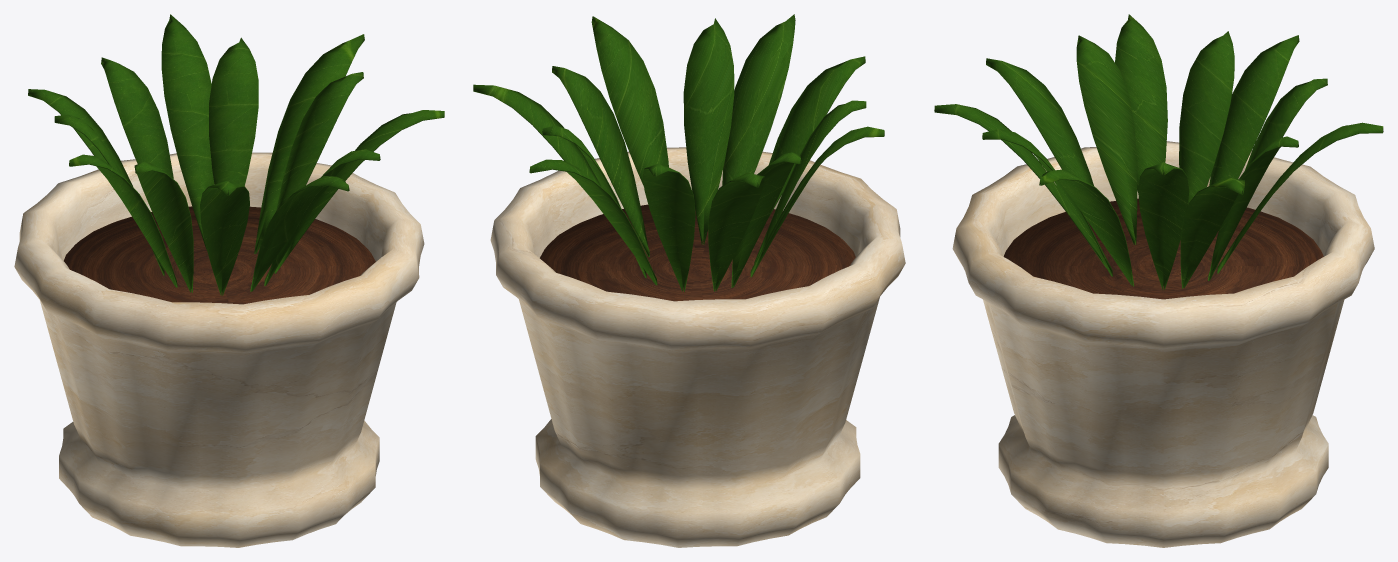
File: explore3d__reaction_hotel_lobby_0.glb
The picture shows the model from 3 angles, left to right: view 1: azimuth 30°, elevation 25°; view 2: azimuth 150°, elevation 25°; view 3: azimuth 270°, elevation 25°; orthographic projection. The views are drawn at different scales.
Visible parts, largest first — view 1: moulded_planter_vessel, inset_soil, folded_leaf.011, folded_leaf.003, folded_leaf.008, folded_leaf.006, folded_leaf.007, folded_leaf, folded_leaf.012, folded_leaf.002, folded_leaf.004, folded_leaf.005 (+3 smaller); view 2: moulded_planter_vessel, inset_soil, folded_leaf.010, folded_leaf.002, folded_leaf.005, folded_leaf, folded_leaf.006, folded_leaf.001, folded_leaf.007, folded_leaf.009, folded_leaf.008, folded_leaf.011 (+3 smaller); view 3: moulded_planter_vessel, inset_soil, folded_leaf.012, folded_leaf.009, folded_leaf.004, folded_leaf.001, folded_leaf, folded_leaf.007, folded_leaf.008, folded_leaf.005, folded_leaf.003, folded_leaf.002 (+3 smaller).
Part boxes in pixels (bbox=[...]): moulded_planter_vessel: bbox=[14, 152, 424, 547]; inset_soil: bbox=[64, 206, 375, 304]; folded_leaf.011: bbox=[161, 14, 214, 249]; folded_leaf.003: bbox=[209, 37, 258, 185]; folded_leaf.008: bbox=[254, 34, 364, 253]; folded_leaf.006: bbox=[101, 57, 173, 178]; folded_leaf.007: bbox=[200, 180, 249, 295]; folded_leaf: bbox=[276, 72, 363, 211]; folded_leaf.012: bbox=[134, 162, 193, 292]; folded_leaf.002: bbox=[250, 176, 349, 291]; folded_leaf.004: bbox=[69, 154, 177, 287]; folded_leaf.005: bbox=[274, 110, 444, 273]; moulded_planter_vessel: bbox=[490, 147, 905, 547]; inset_soil: bbox=[540, 204, 855, 301]; folded_leaf.010: bbox=[683, 18, 734, 244]; folded_leaf.002: bbox=[722, 14, 795, 185]; folded_leaf.005: bbox=[591, 16, 668, 186]; folded_leaf: bbox=[552, 66, 649, 257]; folded_leaf.006: bbox=[642, 163, 695, 291]; folded_leaf.001: bbox=[708, 172, 764, 291]; folded_leaf.007: bbox=[767, 56, 865, 219]; folded_leaf.009: bbox=[731, 152, 801, 287]; folded_leaf.008: bbox=[473, 84, 601, 186]; folded_leaf.011: bbox=[529, 159, 657, 285]; moulded_planter_vessel: bbox=[952, 141, 1374, 547]; inset_soil: bbox=[1003, 198, 1323, 299]; folded_leaf.012: bbox=[1076, 35, 1137, 244]; folded_leaf.009: bbox=[1179, 31, 1234, 204]; folded_leaf.004: bbox=[1115, 14, 1167, 192]; folded_leaf.001: bbox=[1209, 35, 1299, 185]; folded_leaf: bbox=[1138, 162, 1189, 289]; folded_leaf.007: bbox=[986, 58, 1093, 185]; folded_leaf.008: bbox=[1180, 177, 1244, 288]; folded_leaf.005: bbox=[1039, 169, 1134, 286]; folded_leaf.003: bbox=[1208, 136, 1298, 280]; folded_leaf.002: bbox=[934, 104, 1106, 268].
Bounding box in the file's own units: 1.13 × 1.14 × 1.19.
Materials: 3 (3 with a texture image).
